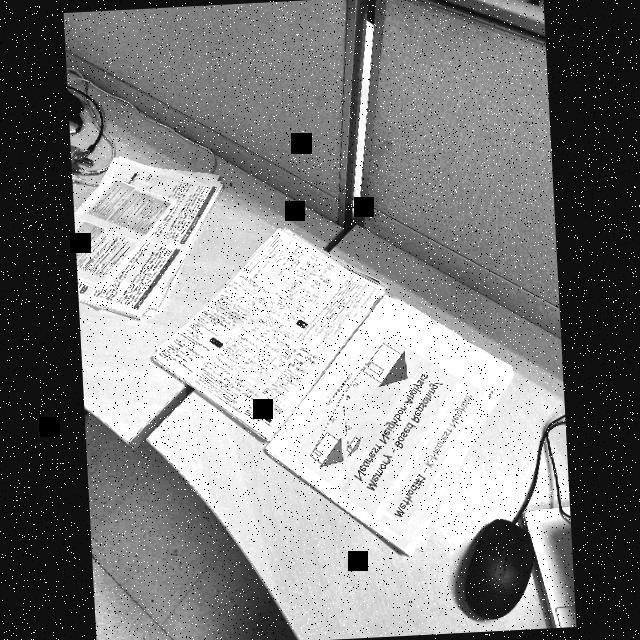reuseable_paper: (146, 204, 522, 575), (70, 138, 234, 326)
